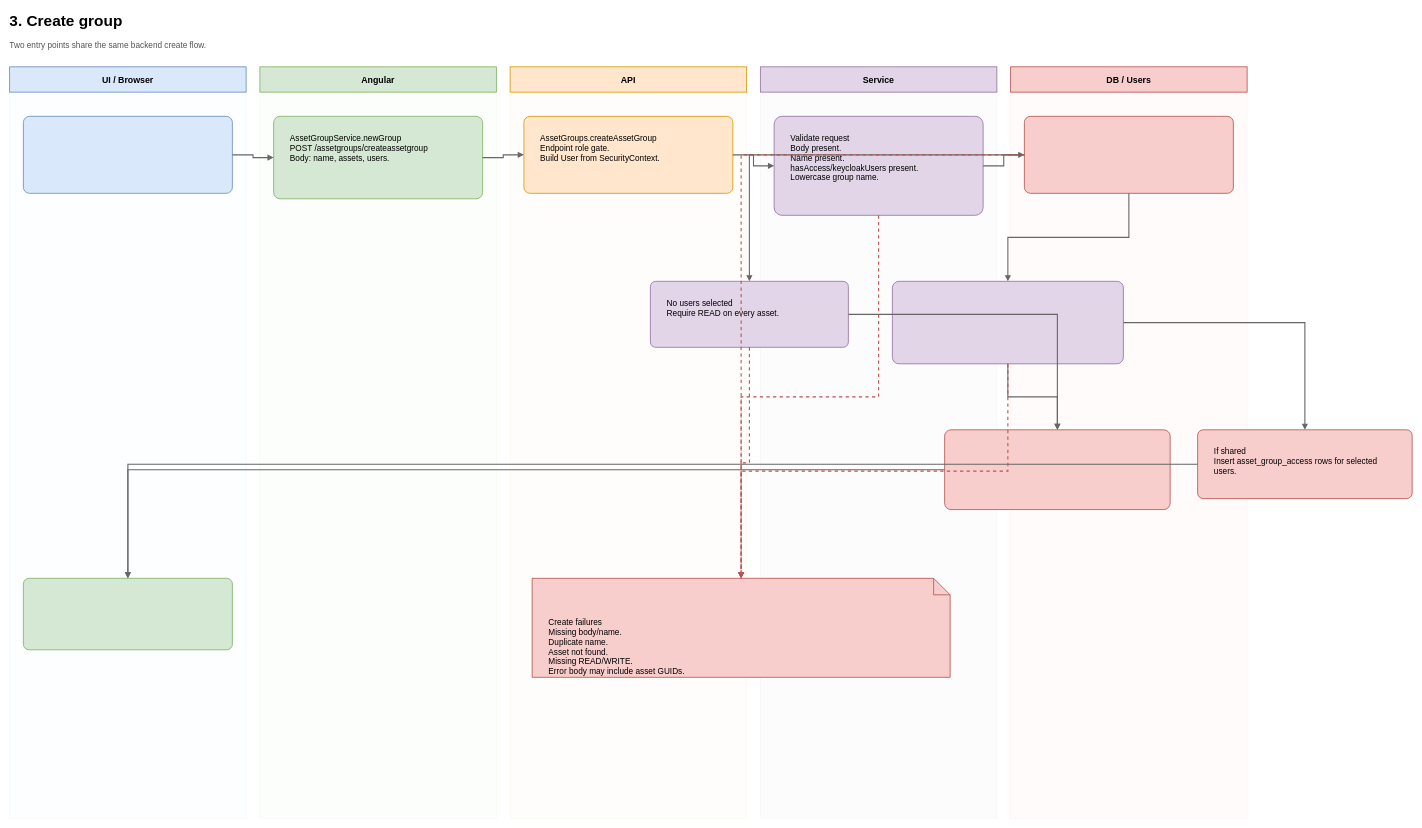
Image size: 1422x828. Some labels were removed from this diagram. Each missing label, with the centre of its shape:
Choose create Query page: selected assets. Asset Groups page: empty group.: point (128, 154)
Create group transaction Insert group. Grant creator access. Insert asset links.: point (1057, 469)
Load assets and group All assets must exist. Group name must be unique.: point (1129, 154)
Return AssetGroup UI appends row or shows snackbar.: point (128, 614)
Users selected Require WRITE on every asset. Persist Keycloak users if needed.: point (1008, 322)
